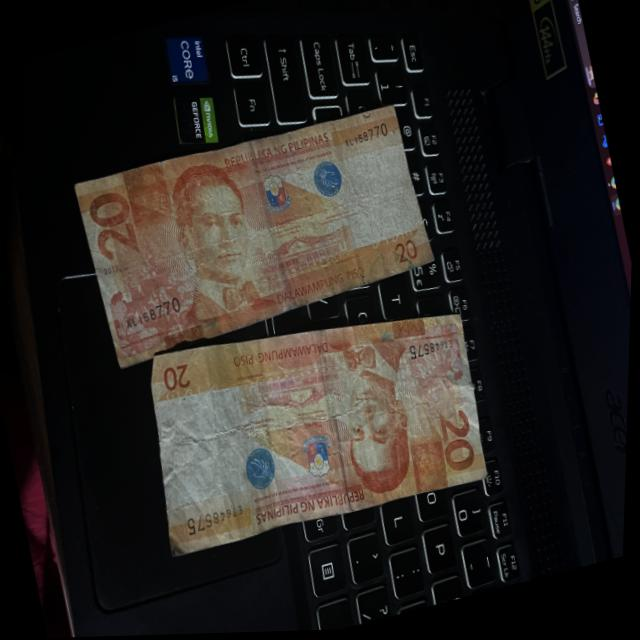concealed_value: (115, 164, 175, 245), (401, 428, 456, 498)
serial_number: (179, 495, 256, 548), (121, 294, 193, 342), (335, 118, 396, 157)
value: (79, 182, 149, 273), (429, 397, 484, 482)
